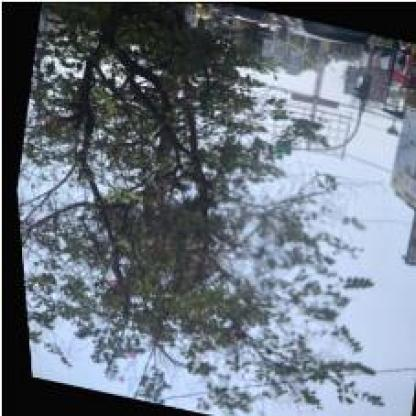green: (355, 72, 371, 97)
